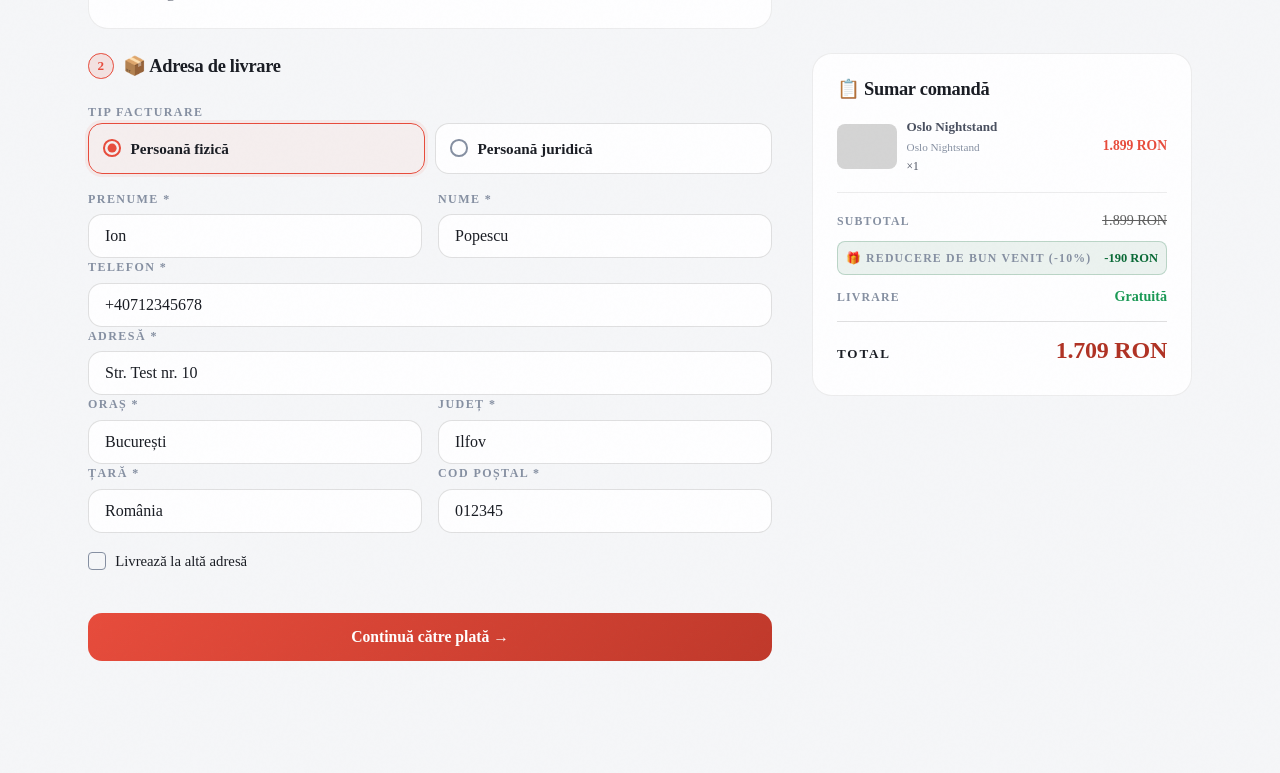
Test case: checkout/cart interactive elements expose data-testid (#21) › tags the shipping and payment step controls
(page scrolled)
Expected: the field showing "Ion" is shown, [88,214,422,258]
Click the button with test id "checkout-continue-payment" at (430, 637), box [88,613,772,661]
(page scrolled)
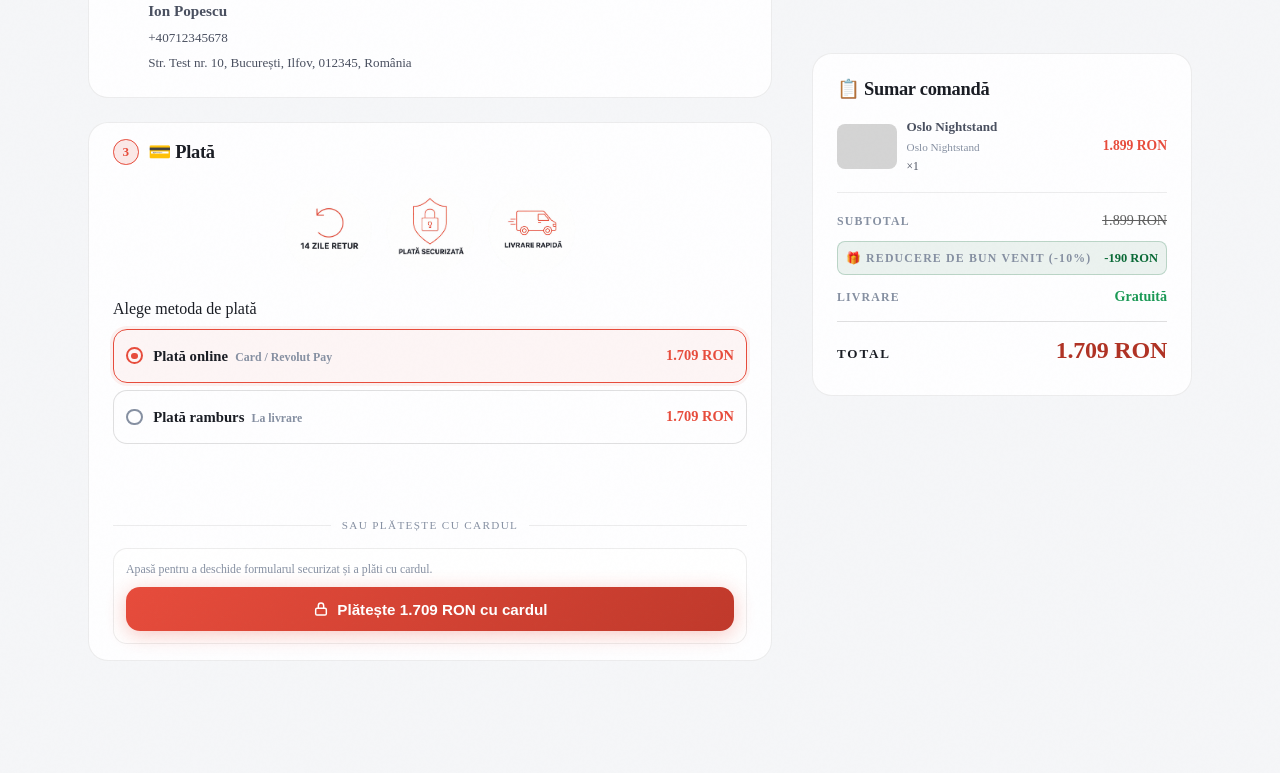
Expected: the radio button with test id "checkout-pay-method-card" is shown, [126,347,143,364]
Expected: the radio button with test id "checkout-pay-method-ramburs" is shown
# Selecting ramburs reveals its confirm button.
Click the radio button with test id "checkout-pay-method-ramburs" at (134, 417), box [126,408,143,425]
(page scrolled)
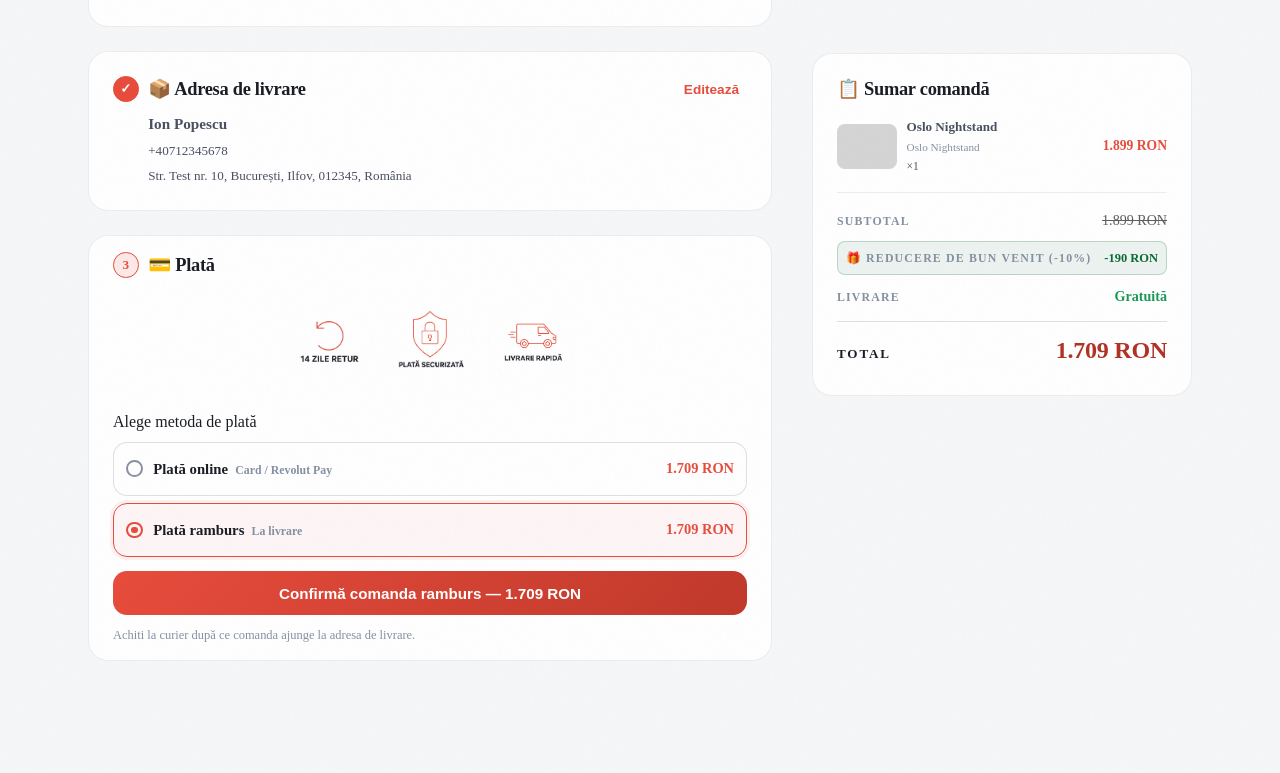
Expected: the button with test id "checkout-confirm-ramburs" is shown, [113,571,747,616]
